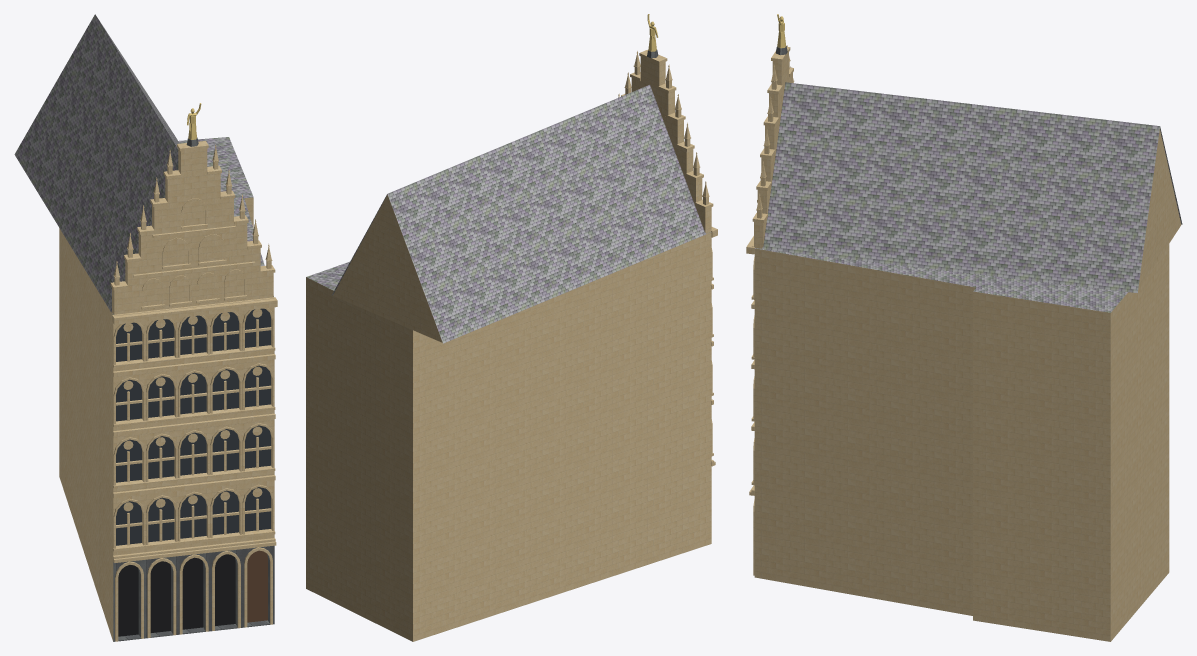
3 views of the same model, side by side, from view 1: azimuth 30°, elevation 25°; view 2: azimuth 150°, elevation 25°; view 3: azimuth 270°, elevation 25° (orthographic). The views are drawn at different scales.
Parts seen in each view (by area): view 1: bldg_496929323_landmark; view 2: bldg_496929323_landmark; view 3: bldg_496929323_landmark.
Boxes of the visible parts, x1=… form: bldg_496929323_landmark: x1=14, y1=14, x2=277, y2=641; bldg_496929323_landmark: x1=306, y1=14, x2=717, y2=641; bldg_496929323_landmark: x1=746, y1=14, x2=1182, y2=641.
Bounding box in the file's own units: 16.28 × 30.09 × 22.35.
Materials: 7 (3 with a texture image).
